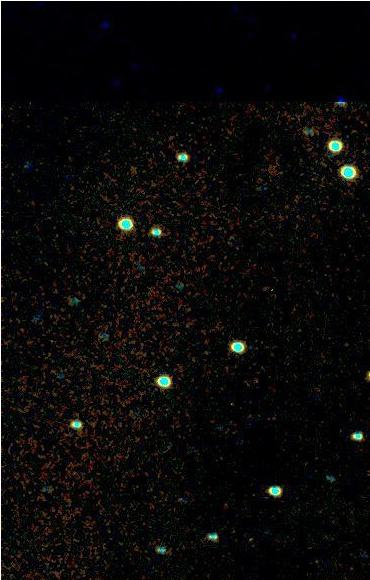star: (352, 359, 370, 389)
